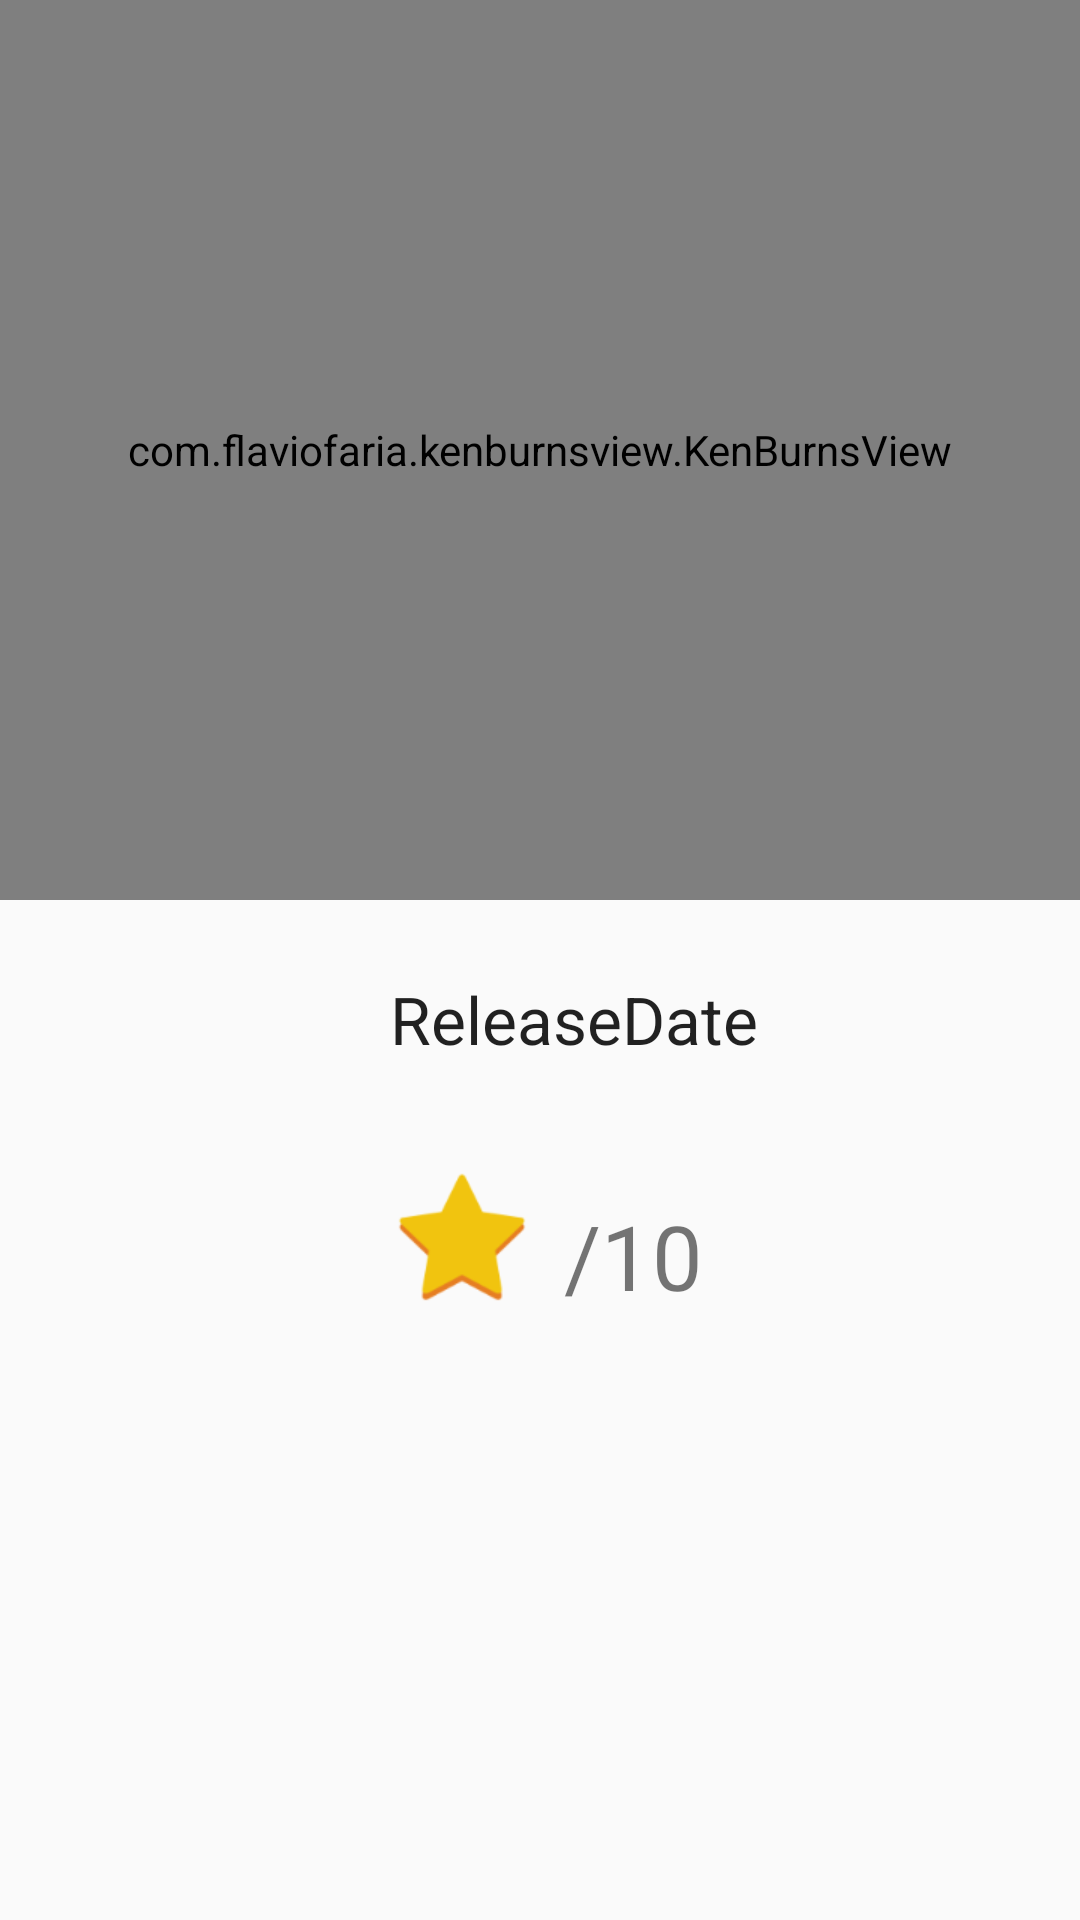

Locate icon controls on the screen. Image size 1080w x 1920h, boxes as bbox=(x1, y1, x2, y2).
star: bbox=(399, 1174, 525, 1301)
